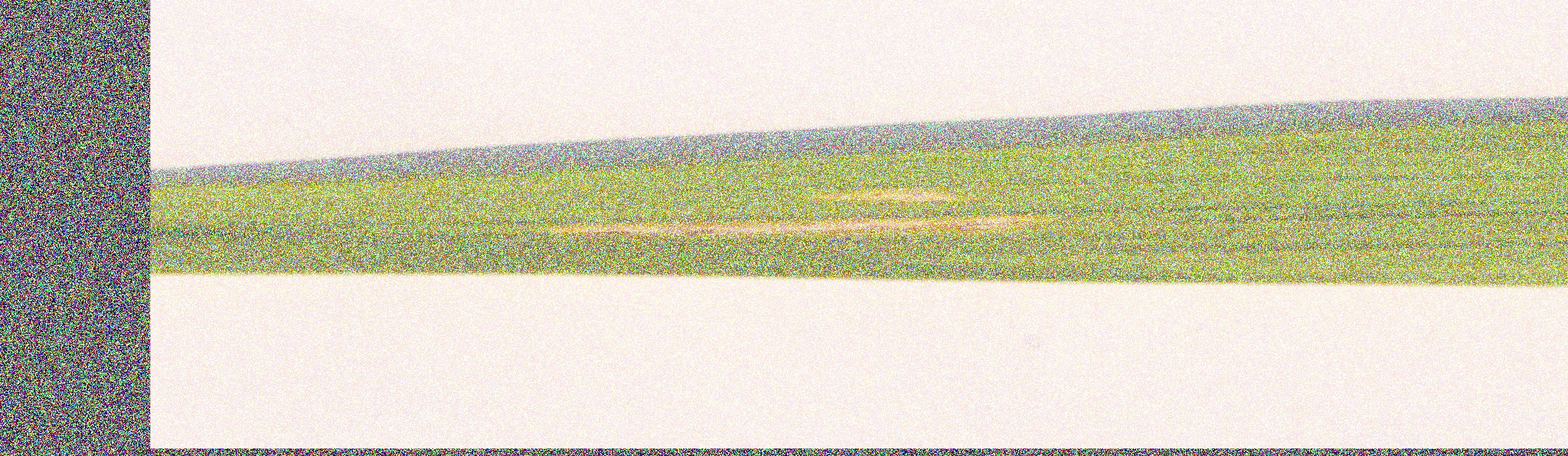Leaf_Blast: (494, 154, 1098, 252)
